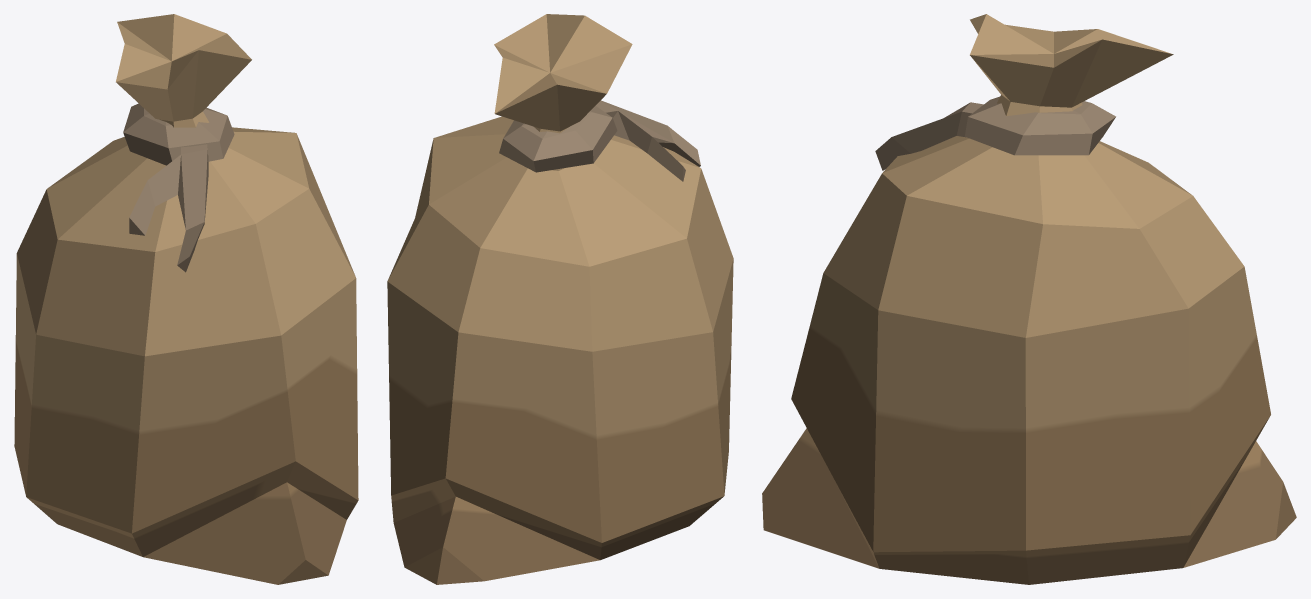
Rendered from Prop_Sack_02.glb.
3 views of the same model, side by side, from view 1: azimuth 30°, elevation 25°; view 2: azimuth 150°, elevation 25°; view 3: azimuth 270°, elevation 25° (orthographic). The views are drawn at different scales.
Visible parts, largest first — view 1: SM_Gen_Prop_Sack_02; view 2: SM_Gen_Prop_Sack_02; view 3: SM_Gen_Prop_Sack_02.
Part boxes in pixels (x1,y1,x2,y2): SM_Gen_Prop_Sack_02: (14,14,358,584); SM_Gen_Prop_Sack_02: (387,14,733,584); SM_Gen_Prop_Sack_02: (762,14,1296,584).
Bounding box in the file's own units: 0.3807 × 0.5281 × 0.5097.
Materials: 1 (1 with a texture image).
